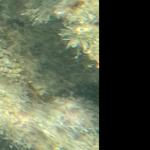dead: (1, 1, 97, 148)
